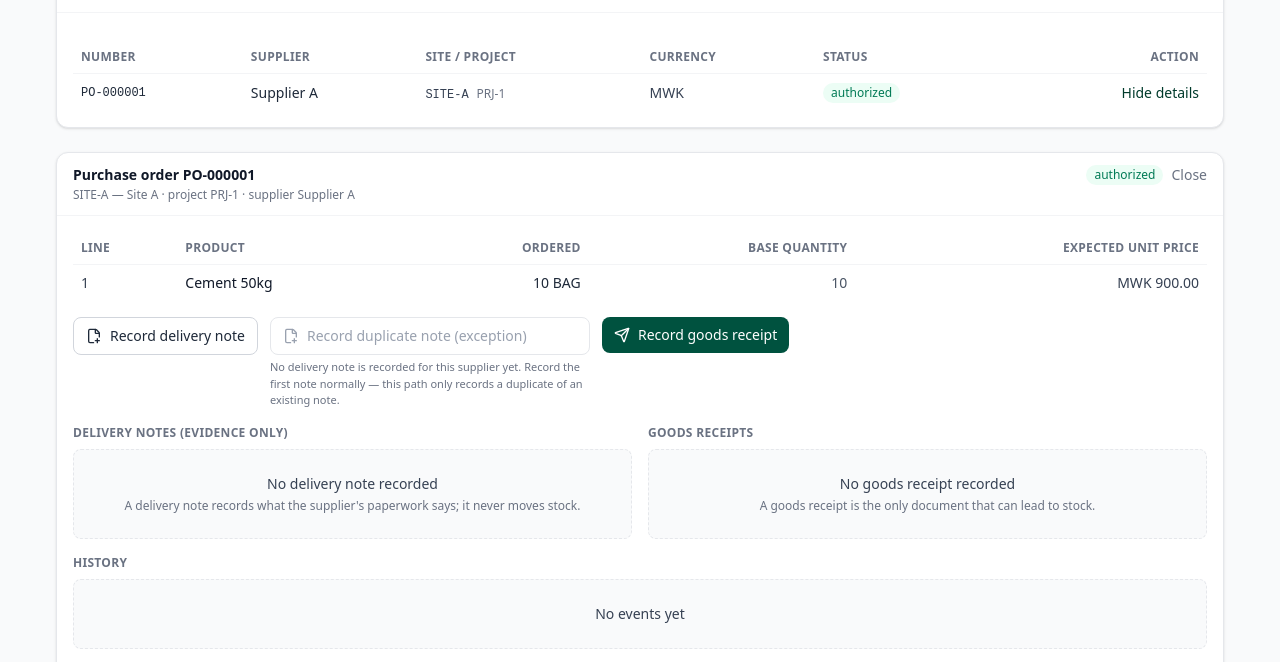
Test: Construction workspace — purchase order workflow › shows the database refusal with its documented explanation when the server rejects a receipt
(page scrolled)
Click the button "Record goods receipt" at (696, 335), box [602,317,789,353]
(page scrolled)
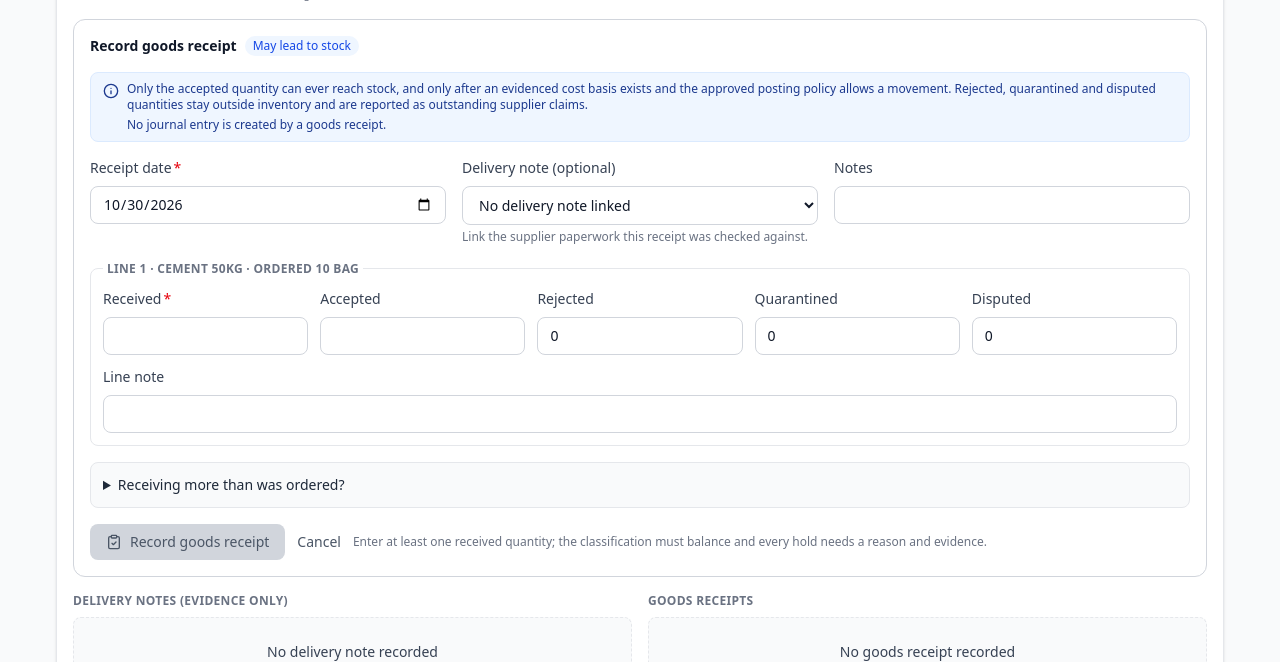
Type "12" into the number field named "Received quantity line 1" at (206, 336), box [103,316,308,354]
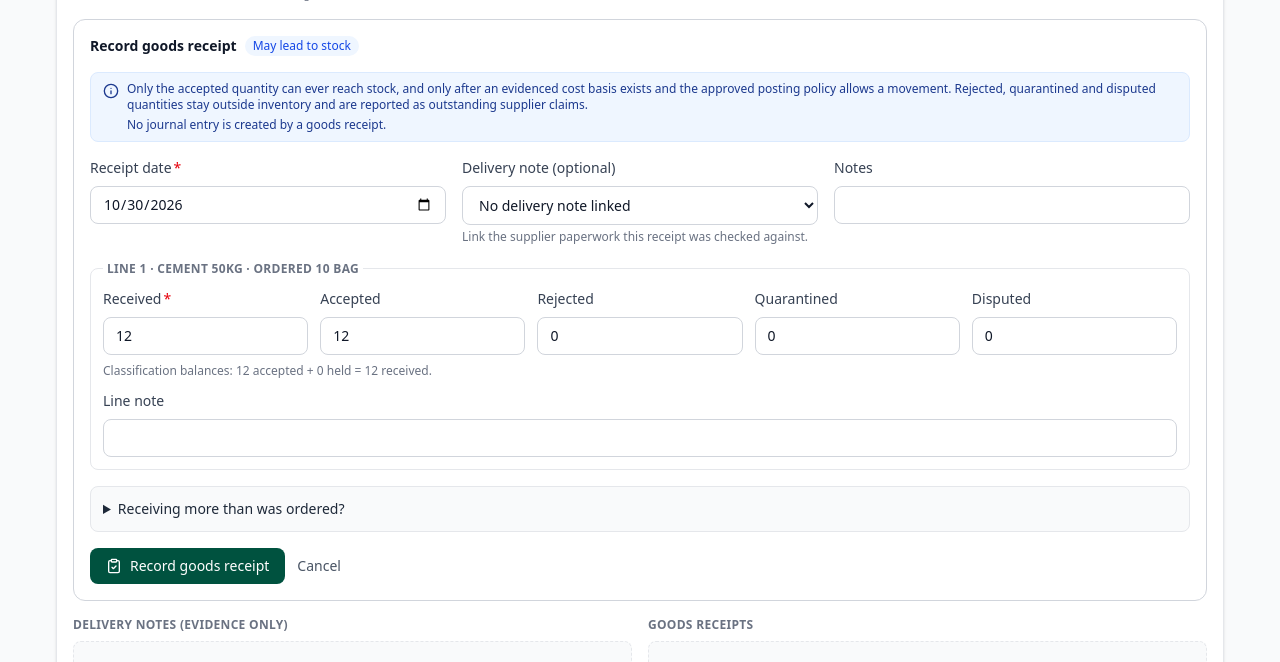
Click the button "Record goods receipt" at (188, 566), box [90,548,285,584]
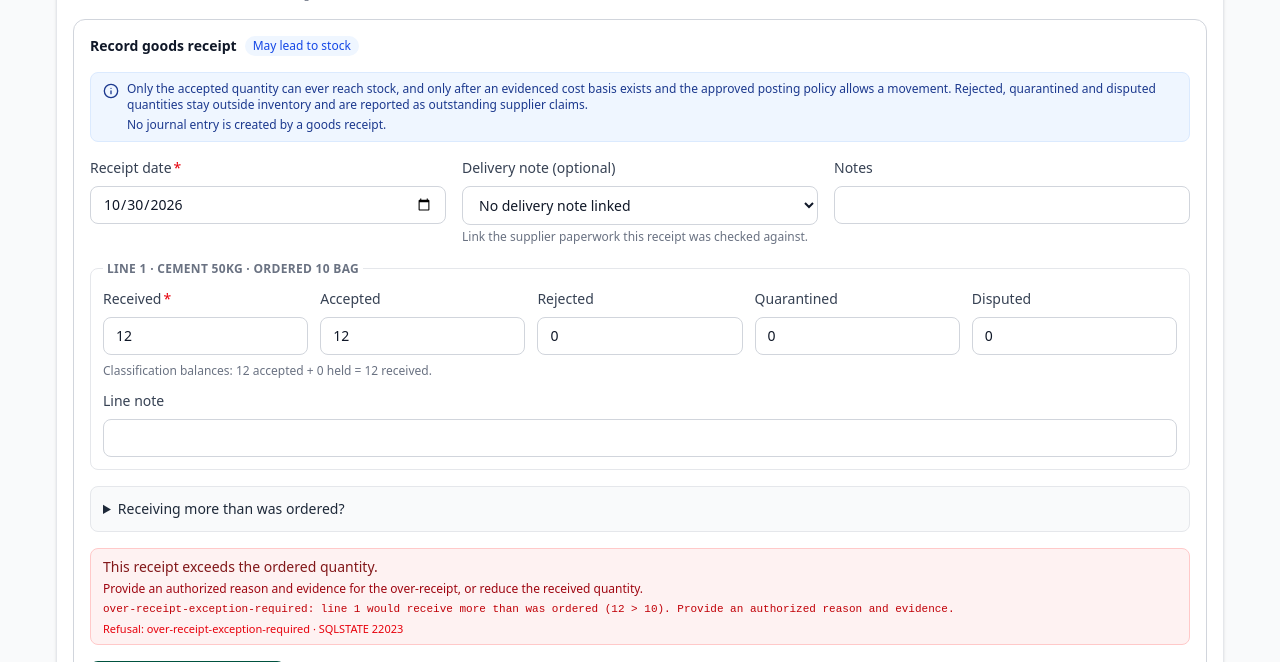
Check: the text "This receipt exceeds the ordered quantity." is shown, box [103,556,378,576]
Check: the text "over-receipt-exception-required" is shown, box [103,602,954,614]
Check: the text "Refusal: over-receipt-exception-required · SQLSTATE 22023" is shown, box [103,620,403,636]
